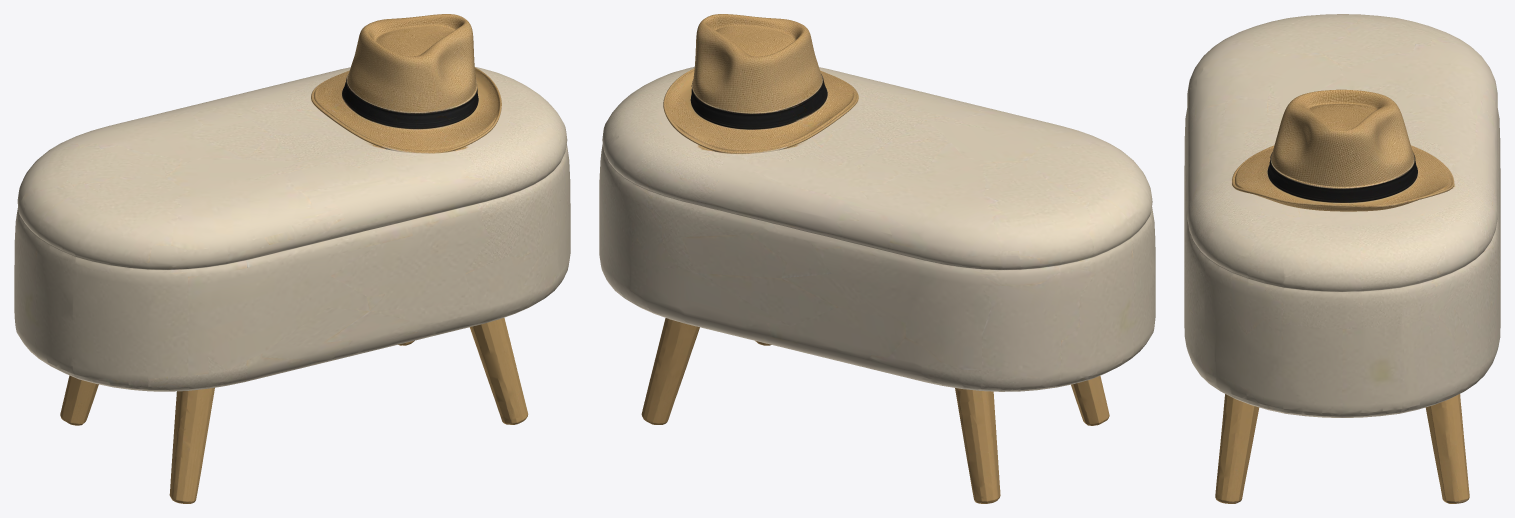
File: shadowkart-upholstered-ottoman-storage-bench-premium-boucle-.glb
The picture shows the model from 3 angles, left to right: view 1: azimuth 30°, elevation 25°; view 2: azimuth 150°, elevation 25°; view 3: azimuth 270°, elevation 25°; orthographic projection. The views are drawn at different scales.
Bounding box in the file's own units: 1.9 × 1.29 × 0.9807.
Materials: 1 (1 with a texture image).
